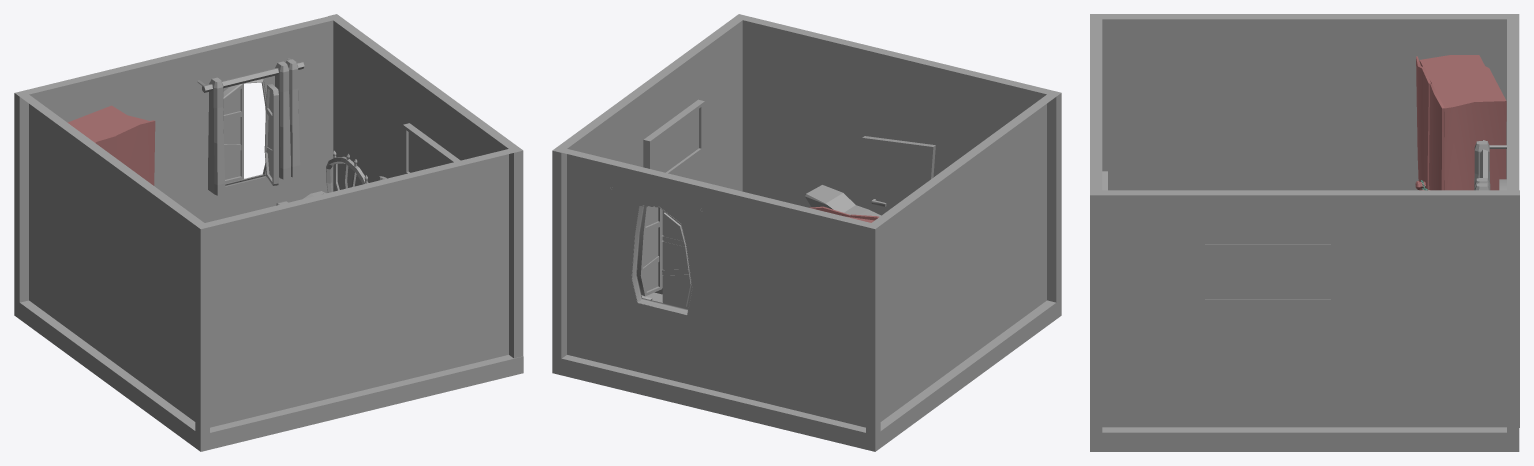
Rendered from chambre_bordel.fbx.
3 views of the same model, side by side, from view 1: azimuth 30°, elevation 25°; view 2: azimuth 150°, elevation 25°; view 3: azimuth 270°, elevation 25° (orthographic). The views are drawn at different scales.
Parts seen in each view (by area): view 1: mur_front2, mur_left2, mur_back2, mur_right2, sol2, Rideau2, armoire_porte_R, fenetre11, tableau, armoire, Rideau1, fenetre17 (+3 smaller); view 2: mur_back2, mur_left2, mur_front2, mur_right2, sol2, porte_R5, tableau, fenetre11, fenetre17, fauteuil, fenetre15; view 3: mur_right2, mur_left2, sol2, armoire, mur_front2, mur_back2, armoire_porte_L, armoire_porte_R.
Boxes of the visible parts, bbox=[...] form: mur_front2: bbox=[195, 146, 522, 434]; mur_left2: bbox=[20, 94, 209, 434]; mur_back2: bbox=[14, 14, 341, 302]; mur_right2: bbox=[328, 14, 523, 358]; sol2: bbox=[14, 299, 523, 451]; Rideau2: bbox=[208, 77, 225, 195]; armoire_porte_R: bbox=[116, 120, 155, 185]; fenetre11: bbox=[223, 84, 243, 183]; tableau: bbox=[403, 123, 460, 173]; armoire: bbox=[67, 105, 148, 141]; Rideau1: bbox=[275, 61, 290, 179]; fenetre17: bbox=[264, 84, 278, 185]; mur_back2: bbox=[553, 146, 880, 434]; mur_left2: bbox=[866, 90, 1057, 435]; mur_front2: bbox=[734, 14, 1061, 302]; mur_right2: bbox=[552, 18, 742, 358]; sol2: bbox=[552, 299, 1061, 451]; porte_R5: bbox=[862, 136, 935, 215]; tableau: bbox=[643, 99, 704, 173]; fenetre11: bbox=[661, 210, 691, 309]; fenetre17: bbox=[637, 206, 662, 296]; fauteuil: bbox=[805, 185, 881, 216]; fenetre15: bbox=[631, 205, 692, 314]; mur_right2: bbox=[1102, 190, 1519, 427]; mur_left2: bbox=[1090, 14, 1519, 190]; sol2: bbox=[1090, 427, 1519, 451]; armoire: bbox=[1419, 55, 1506, 190]; mur_front2: bbox=[1090, 14, 1102, 432]; mur_back2: bbox=[1507, 14, 1519, 432]; armoire_porte_L: bbox=[1415, 56, 1431, 190]; armoire_porte_R: bbox=[1421, 83, 1444, 190].
Bounding box in the file's own units: 532 × 351 × 532.
